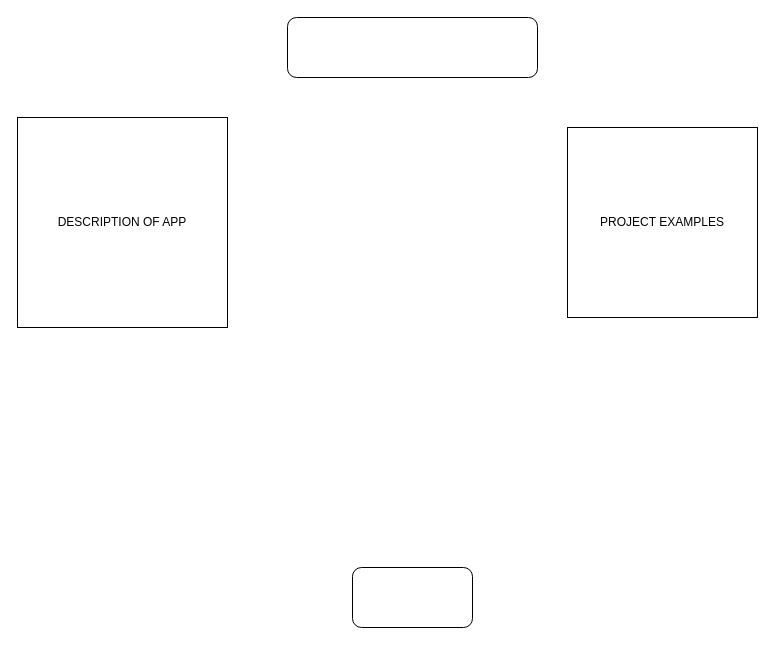
Some shapes in this 775 by 645 pixel diagram are drawn without their labels. Each missing label, with the centre of its shape:
"CREATE NEW PROJECT" goes at (412,597).
"TITLE" goes at (412,47).
